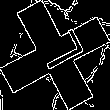L_SW: (26, 29, 84, 81)
